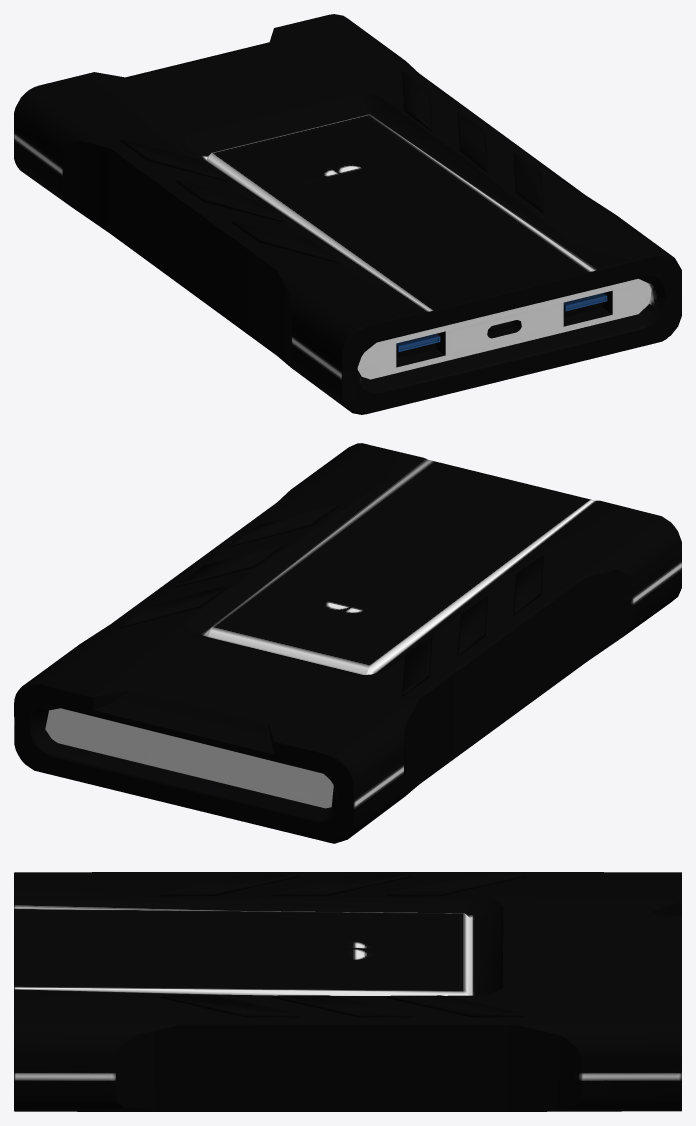
File: dev-external-drive_lod2.glb
The picture shows the model from 3 angles, top to bottom: view 1: azimuth 30°, elevation 25°; view 2: azimuth 150°, elevation 25°; view 3: azimuth 270°, elevation 25°; orthographic projection.
Parts seen in each view (by area): view 1: body; view 2: body; view 3: body.
Boxes of the visible parts, <box> form: body: <box>14,14,681,414</box>; body: <box>14,443,681,843</box>; body: <box>14,872,681,1111</box>.
Bounding box in the file's own units: 0.075 × 0.0193 × 0.125.
Materials: 1 (1 with a texture image).
